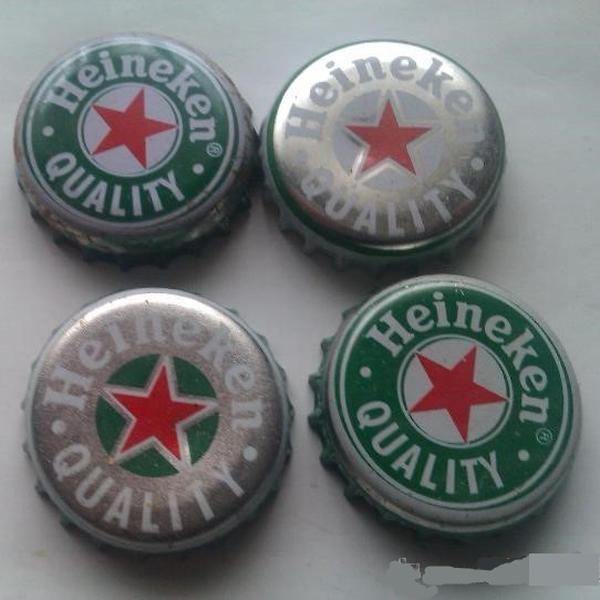heineken: (17, 281, 300, 568), (319, 271, 581, 537), (262, 37, 517, 258), (9, 32, 252, 254)
